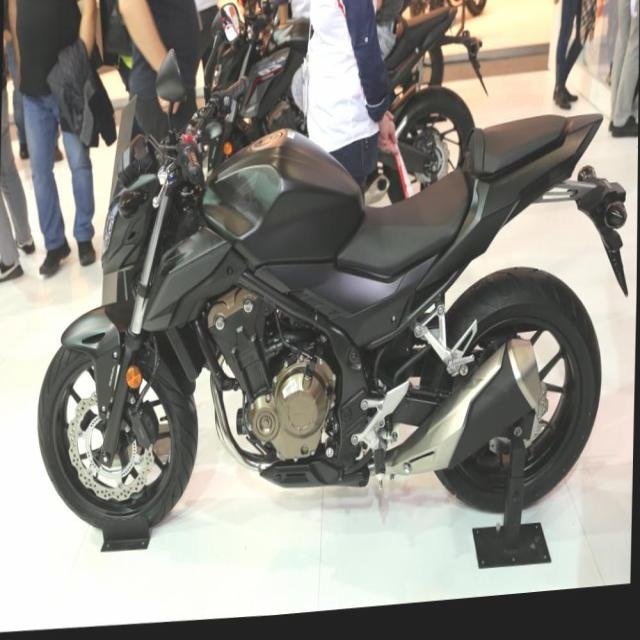CB500F: (33, 94, 632, 555)
